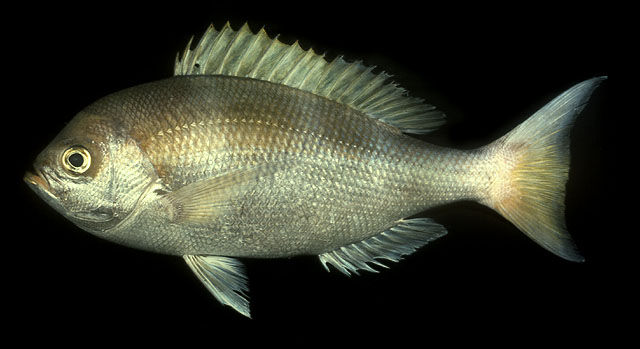fish: (23, 19, 609, 319)
